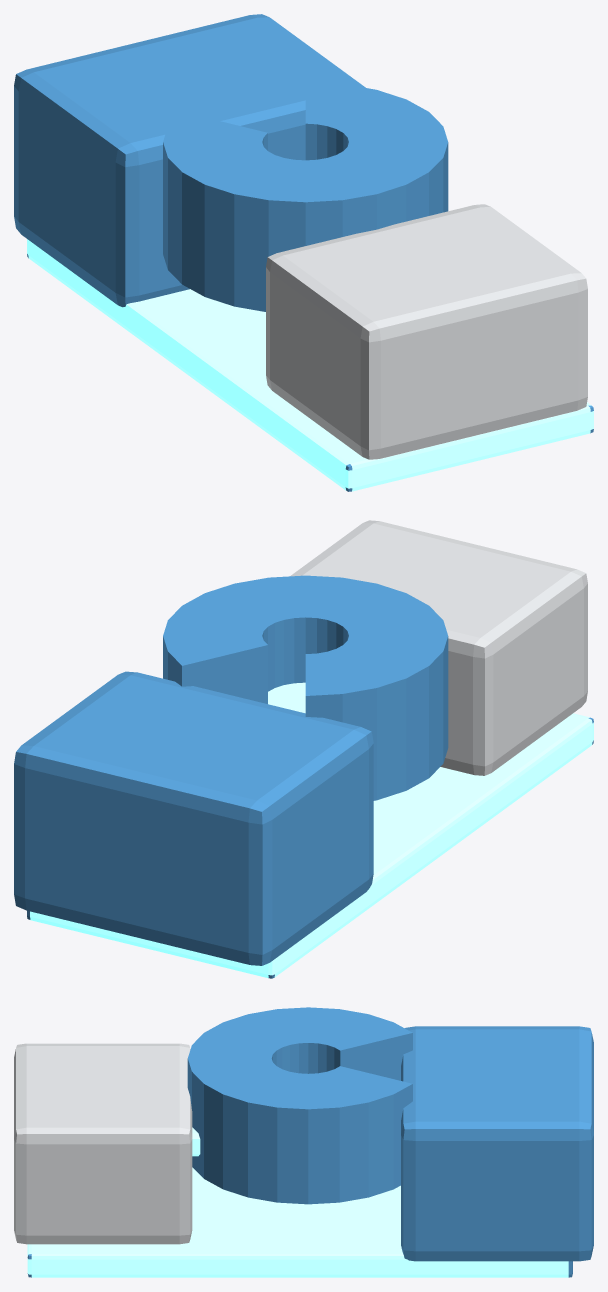
Rendered from right_boot__heel_guard.glb.
3 views of the same model, one above another, from view 1: azimuth 30°, elevation 25°; view 2: azimuth 150°, elevation 25°; view 3: azimuth 270°, elevation 25° (orthographic). The views are drawn at different scales.
Parts seen in each view (by area): view 1: armor_right_boot__heel_guard_v001; view 2: armor_right_boot__heel_guard_v001; view 3: armor_right_boot__heel_guard_v001.
Boxes of the visible parts, box(x1,y1,x2,y2) form: armor_right_boot__heel_guard_v001: box(14, 14, 593, 491); armor_right_boot__heel_guard_v001: box(14, 520, 593, 978); armor_right_boot__heel_guard_v001: box(14, 1007, 593, 1277).
Size of the model in its own units: 0.118 by 0.089 by 0.2765.
